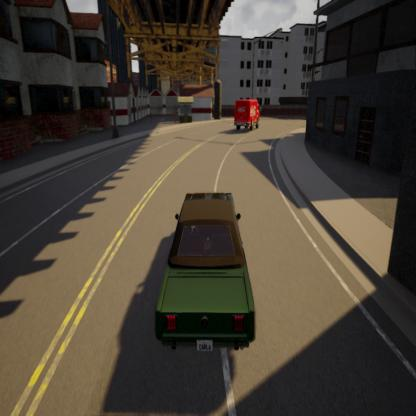Cars: (155, 191, 256, 351), (234, 98, 260, 133)
